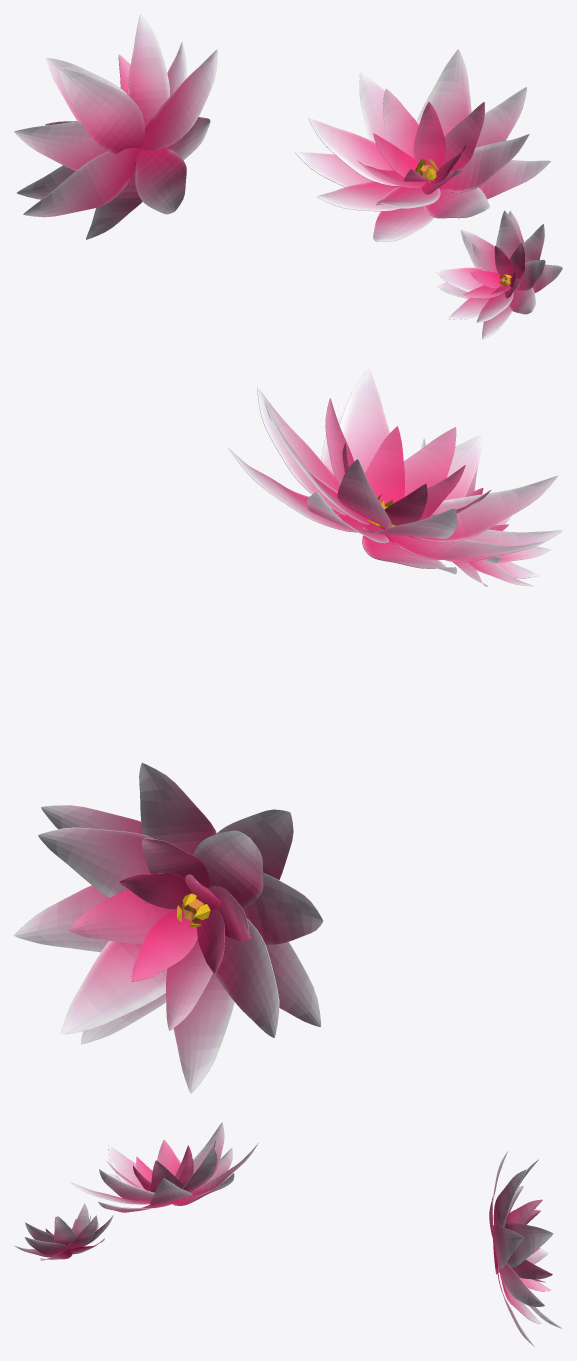
File: LV4Q YW Flower.glb
3 renders of one model, top to bottom at view 1: azimuth 30°, elevation 25°; view 2: azimuth 150°, elevation 25°; view 3: azimuth 270°, elevation 25°, orthographic. The views are drawn at different scales.
Visible parts, largest first — view 1: Plane.022; view 2: Plane.022; view 3: Plane.022.
Boxes of the visible parts, x1=… form: Plane.022: x1=14, y1=14, x2=562, y2=339; Plane.022: x1=14, y1=368, x2=562, y2=1093; Plane.022: x1=14, y1=1122, x2=562, y2=1346.
Bounding box in the file's own units: 1.19 × 1.25 × 2.61.
3 materials, 1 textured.
